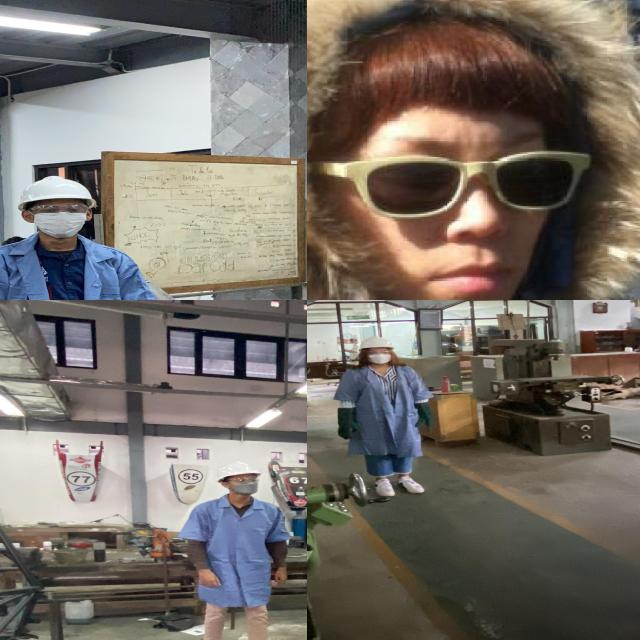face_mask: (29, 202, 90, 240), (228, 474, 262, 495), (364, 347, 394, 365)
face_nomask: (347, 139, 567, 300)
glasses: (308, 128, 590, 222), (24, 202, 90, 216), (221, 475, 261, 485), (364, 348, 394, 356)
hand_glove: (332, 420, 363, 440), (412, 414, 436, 428)
hand_noglove: (192, 566, 228, 590), (271, 567, 294, 585)
head_helmet: (13, 174, 99, 207), (214, 461, 260, 478), (357, 335, 395, 349)
head_nohelmet: (307, 0, 582, 136)
person: (307, 0, 640, 300), (178, 459, 307, 640), (0, 172, 159, 300), (333, 335, 442, 502)
shoes: (394, 473, 429, 495), (370, 475, 399, 499)
